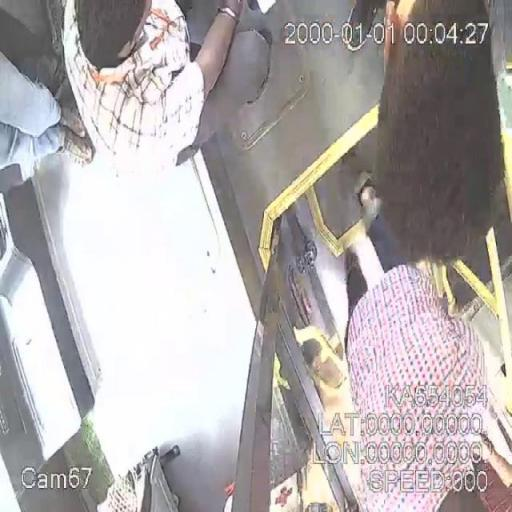persona: (332, 174, 510, 512), (59, 0, 246, 178)
